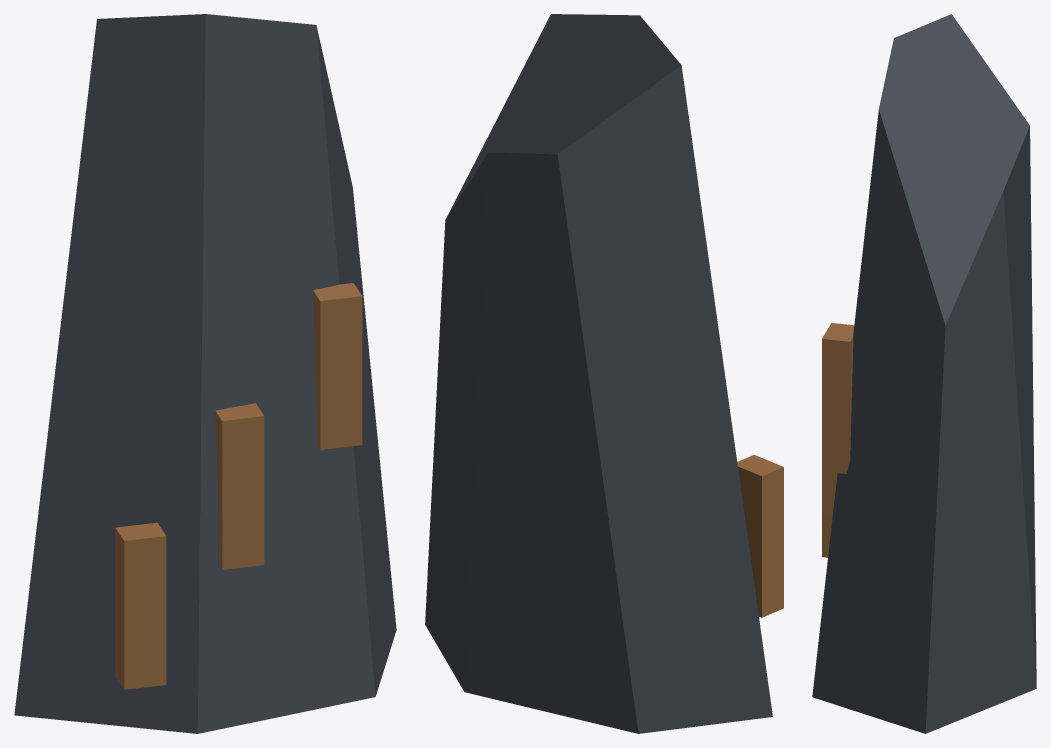
The model's file is map-boundaries-v5__iron_10.glb.
3 renders of one model, left to right at view 1: azimuth 30°, elevation 25°; view 2: azimuth 150°, elevation 25°; view 3: azimuth 270°, elevation 25°, orthographic. The views are drawn at different scales.
Visible parts, largest first — view 1: iron_10; view 2: iron_10; view 3: iron_10.
Part boxes in pixels (x1,y1,x2,y2): iron_10: (14, 14, 396, 733); iron_10: (425, 14, 783, 733); iron_10: (812, 14, 1036, 733).
Bounding box in the file's own units: 1.18 × 2.05 × 0.6905.
